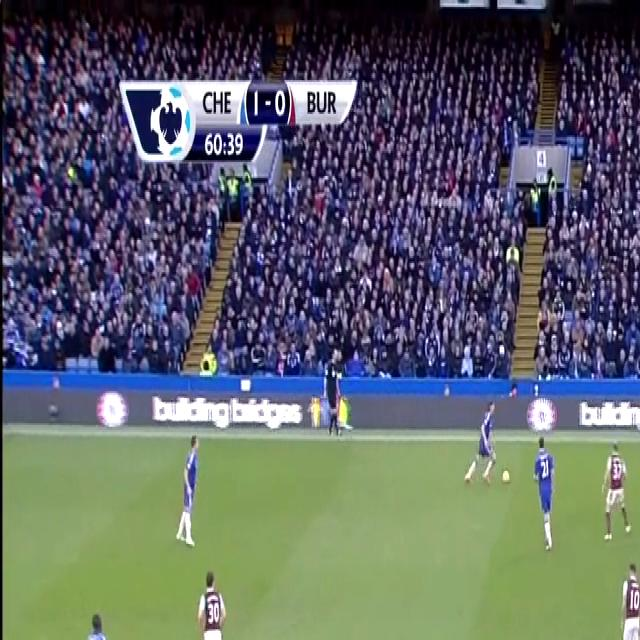ball: (500, 464, 514, 495)
referee: (317, 341, 353, 446)
soccer-player: (173, 424, 210, 551), (454, 392, 500, 493), (531, 427, 567, 556), (598, 434, 636, 548), (186, 567, 228, 640), (610, 553, 640, 640), (71, 602, 125, 640)
